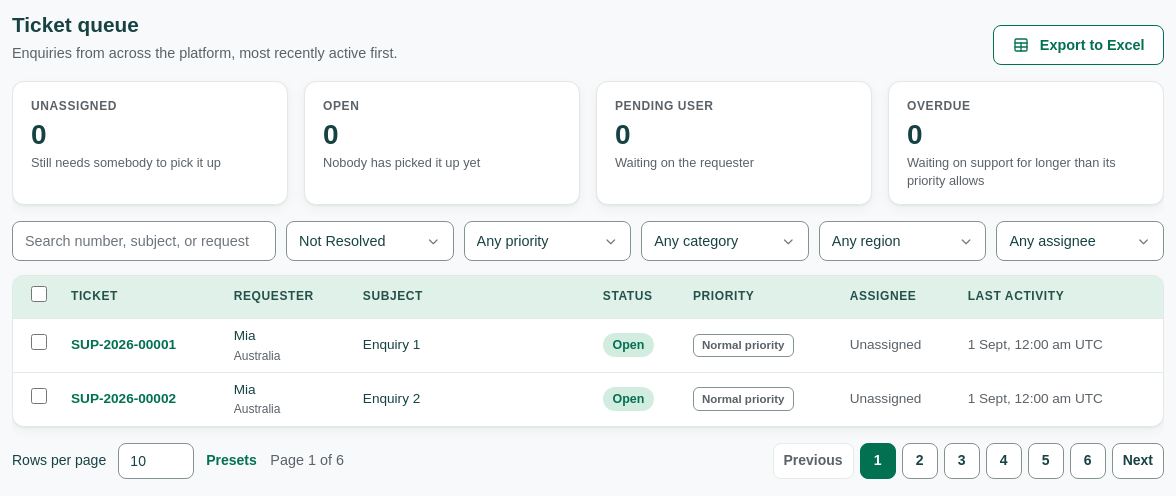
Test: the page count the queue prints › counts 51 tickets at a typed 25 by the size the server served
Replace the text in the number field named "Rows per page" with "25" at (156, 460), box [118,442,194,478]
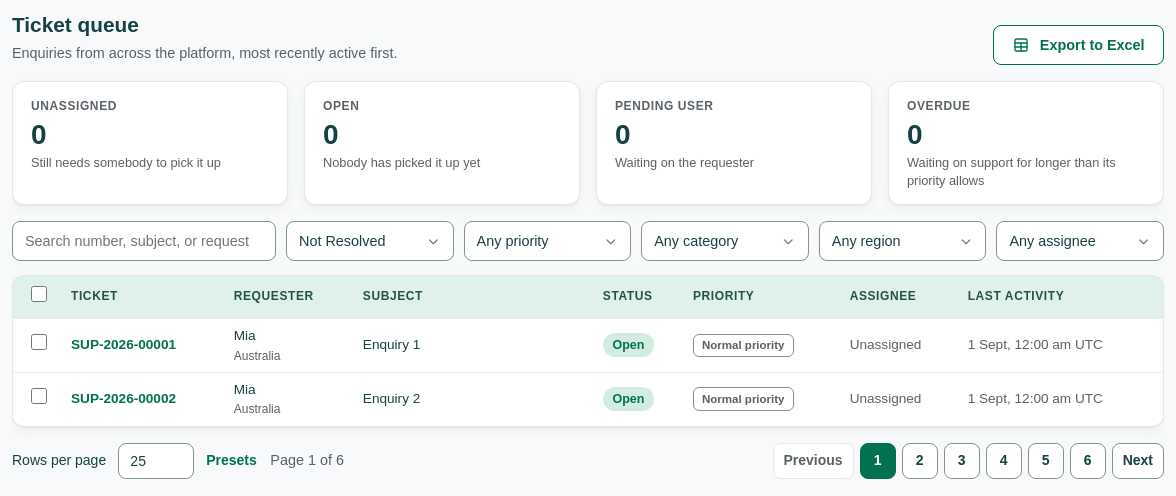
Press Enter in the number field named "Rows per page", box [118,442,194,478]
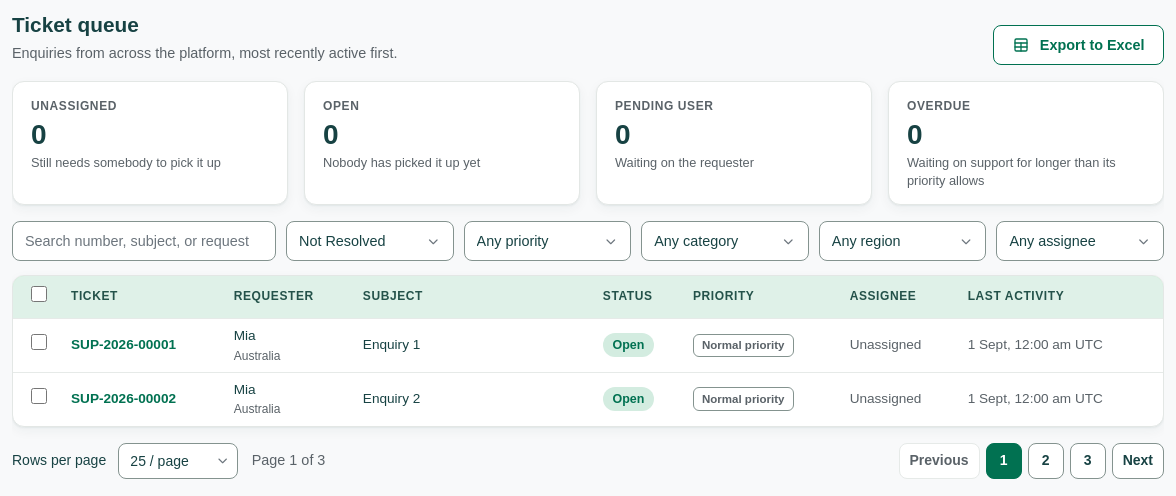
Expected: the text "Page 1 of 3" is shown, [252,449,325,472]
